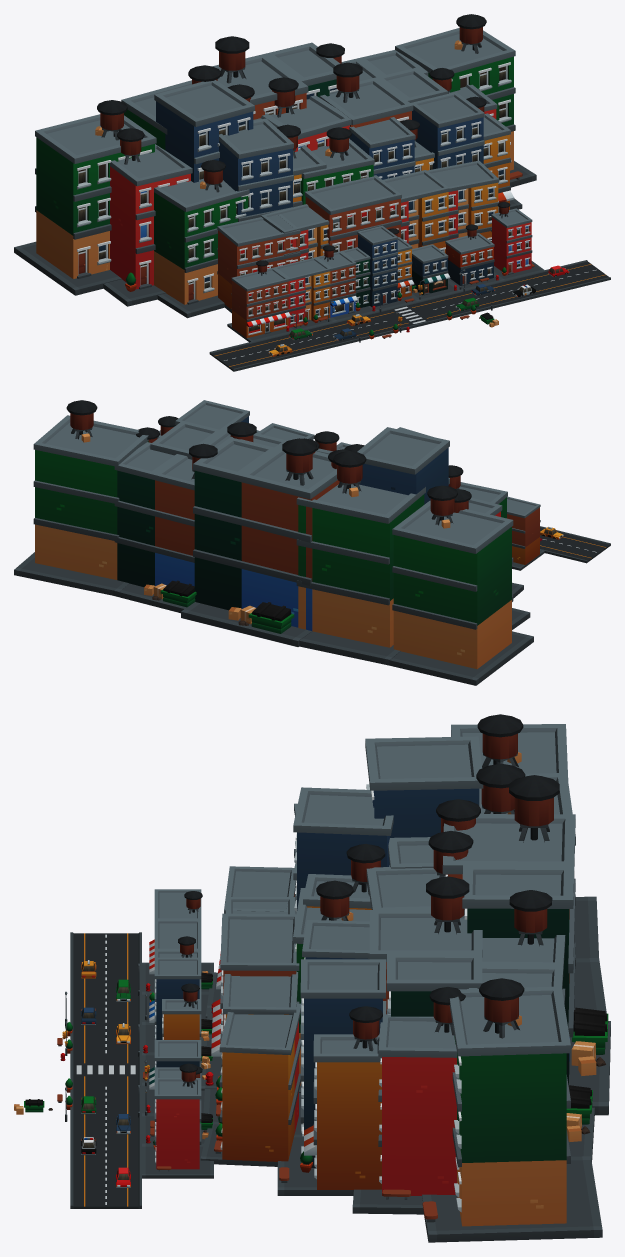
Rendered from level_6.glb.
3 renders of one model, top to bottom at view 1: azimuth 30°, elevation 25°; view 2: azimuth 150°, elevation 25°; view 3: azimuth 270°, elevation 25°, orthographic. The views are drawn at different scales.
Visible parts, largest first — view 1: Ortam_4, Ortam_3, Ortam_2, Ortam_1, Ortam_5; view 2: Ortam_5, Ortam_4, Ortam_1, Ortam_3; view 3: Ortam_4, Ortam_5, Ortam_3, Ortam_1, Ortam_2.
Boxes of the visible parts, <box> form: Ortam_4: <box>14,62,522,306</box>; Ortam_3: <box>154,117,499,318</box>; Ortam_2: <box>217,202,544,330</box>; Ortam_1: <box>209,260,610,371</box>; Ortam_5: <box>212,14,536,187</box>; Ortam_5: <box>14,400,339,646</box>; Ortam_4: <box>136,400,533,685</box>; Ortam_1: <box>507,496,610,570</box>; Ortam_3: <box>256,423,523,598</box>; Ortam_4: <box>277,714,606,1214</box>; Ortam_5: <box>422,775,610,1242</box>; Ortam_3: <box>200,787,393,1166</box>; Ortam_1: <box>14,889,213,1208</box>; Ortam_2: <box>137,866,296,1178</box>.
Size of the model in its own units: 77.85 by 29.31 by 58.13.
1 material, 1 textured.
